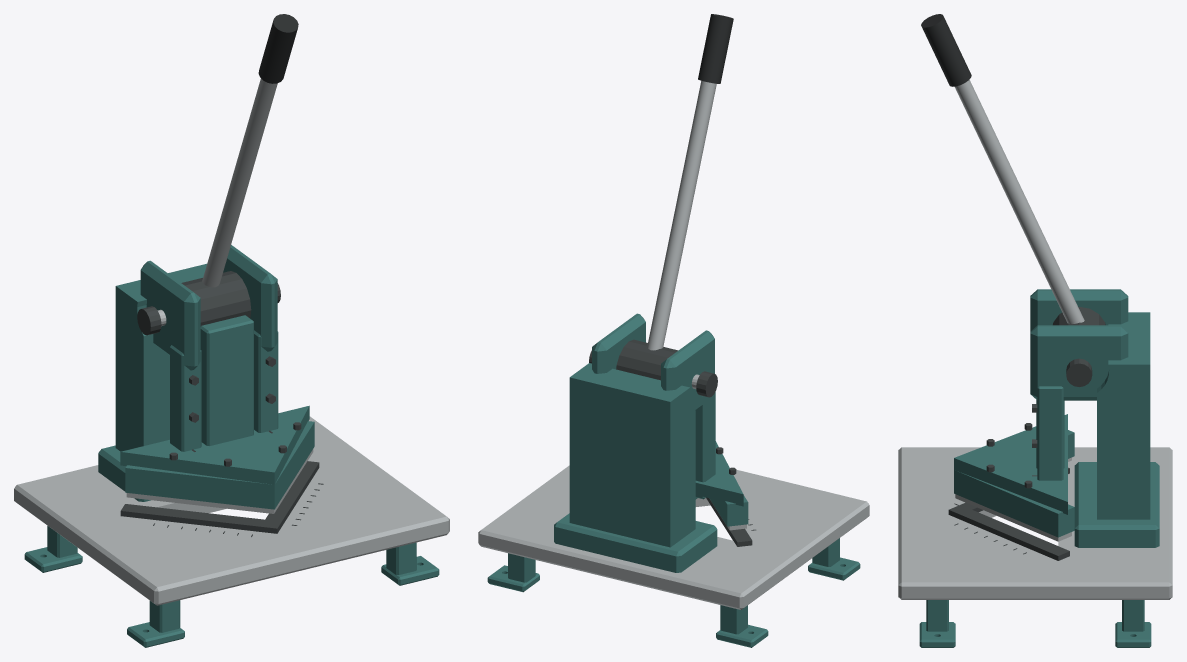
The model's file is A-NEW-20261026-CORNER-NOTCHER-001_LOD2_R6.glb.
The picture shows the model from 3 angles, left to right: view 1: azimuth 30°, elevation 25°; view 2: azimuth 150°, elevation 25°; view 3: azimuth 270°, elevation 25°; orthographic projection. The views are drawn at different scales.
Visible parts, largest first — view 1: worktable with actual triangular aperture, rear casting upright, vertical guided head, triangular guided head support, upper V carrier, cam support ear -0.065, rising operating lever, fixed perpendicular lower edges, front guide cheek -0.065, cam support ear 0.065, cam eccentric visible drum, front guide cheek 0.065 (+8 smaller); view 2: worktable with actual triangular aperture, rear casting upright, rising operating lever, rear casting mount, cam support ear -0.065, front guide cheek -0.065, rounded lever grip, cam support ear 0.065, cam eccentric visible drum, triangular guided head support, upper V carrier, mount foot -0.2 -0.15 (+4 smaller); view 3: worktable with actual triangular aperture, rear casting upright, cam support ear 0.065, triangular guided head support, rising operating lever, rear casting mount, upper V carrier, front guide cheek 0.065, cam support ear -0.065, fixed perpendicular lower edges, rounded lever grip, mount foot 0.2 -0.15 (+6 smaller).
Boxes of the visible parts, x1,y1,x2,y2 form: worktable with actual triangular aperture: [14, 416, 449, 605]; rear casting upright: [115, 263, 206, 451]; vertical guided head: [200, 315, 253, 445]; triangular guided head support: [120, 405, 309, 484]; upper V carrier: [125, 421, 314, 509]; cam support ear -0.065: [140, 260, 200, 370]; rising operating lever: [202, 78, 277, 287]; fixed perpendicular lower edges: [120, 461, 319, 533]; front guide cheek -0.065: [170, 345, 201, 451]; cam support ear 0.065: [223, 245, 277, 351]; cam eccentric visible drum: [181, 271, 251, 326]; front guide cheek 0.065: [254, 330, 278, 432]; worktable with actual triangular aperture: [478, 465, 869, 609]; rear casting upright: [569, 363, 695, 547]; rising operating lever: [647, 81, 716, 350]; rear casting mount: [554, 513, 717, 572]; cam support ear -0.065: [661, 330, 714, 410]; front guide cheek -0.065: [695, 392, 715, 499]; rounded lever grip: [698, 14, 733, 83]; cam support ear 0.065: [592, 313, 645, 373]; cam eccentric visible drum: [616, 339, 678, 380]; triangular guided head support: [695, 441, 743, 506]; upper V carrier: [709, 495, 748, 526]; mount foot -0.2 -0.15: [808, 557, 860, 580]; worktable with actual triangular aperture: [898, 447, 1172, 599]; rear casting upright: [1097, 312, 1150, 519]; cam support ear 0.065: [1030, 325, 1128, 400]; triangular guided head support: [954, 414, 1067, 514]; rising operating lever: [955, 79, 1084, 323]; rear casting mount: [1074, 462, 1159, 547]; upper V carrier: [954, 430, 1074, 537]; front guide cheek 0.065: [1037, 386, 1063, 480]; cam support ear -0.065: [1030, 289, 1128, 331]; fixed perpendicular lower edges: [948, 467, 1069, 560]; rounded lever grip: [921, 14, 971, 86]; mount foot 0.2 -0.15: [919, 622, 955, 647].
Bounding box in the file's own units: 0.5 × 0.9525 × 0.42.
